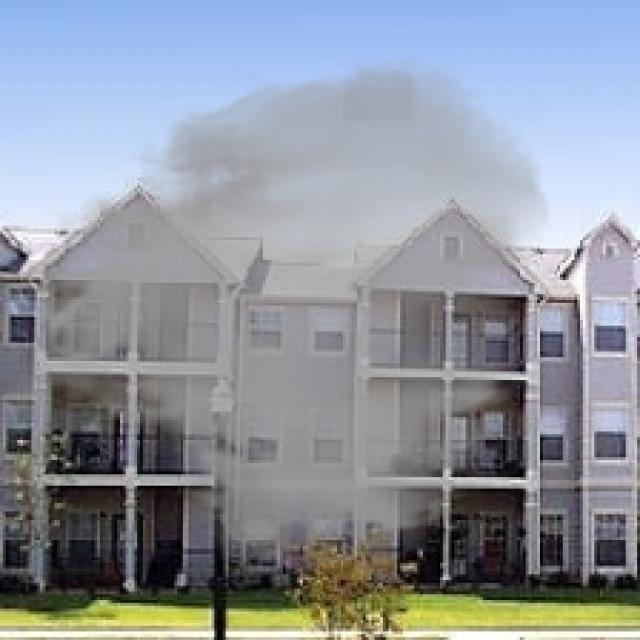Smoke: (6, 54, 554, 572)
